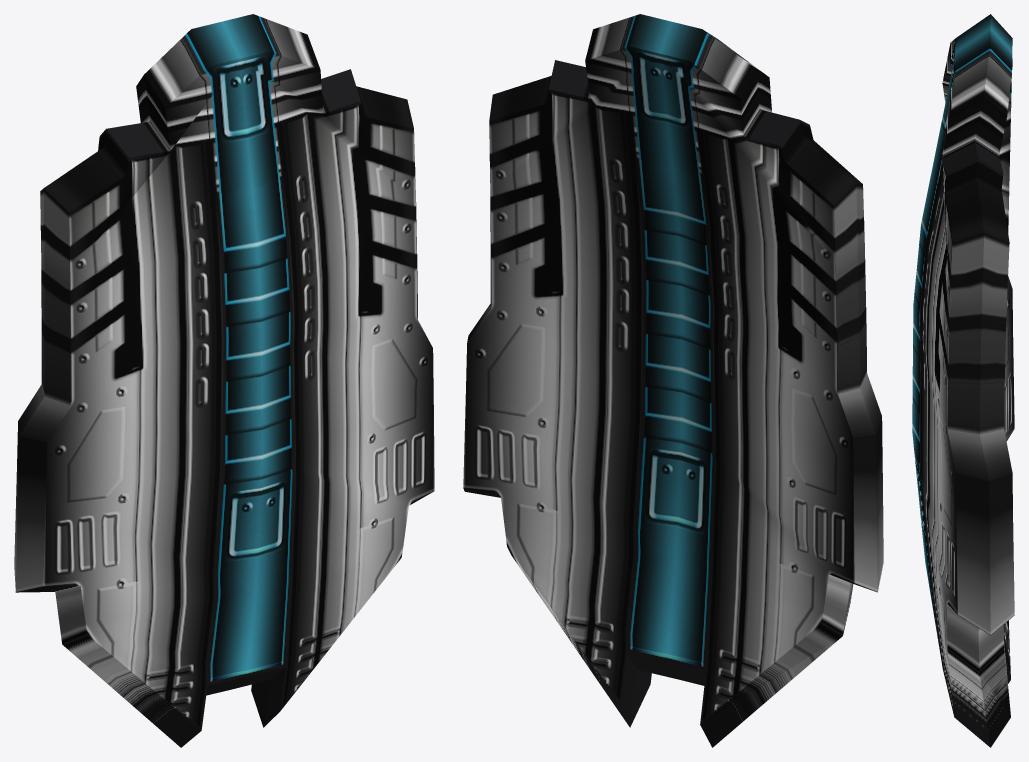
Rendered from Shield.FBX.
The picture shows the model from 3 angles, left to right: view 1: azimuth 30°, elevation 25°; view 2: azimuth 150°, elevation 25°; view 3: azimuth 270°, elevation 25°; orthographic projection. The views are drawn at different scales.
Visible parts, largest first — view 1: Shield; view 2: Shield; view 3: Shield.
Part boxes in pixels (x1=…): Shield: x1=14, y1=14, x2=434, y2=747; Shield: x1=463, y1=14, x2=883, y2=747; Shield: x1=912, y1=14, x2=1014, y2=747.
Bounding box in the file's own units: 152 × 251 × 33.39.
